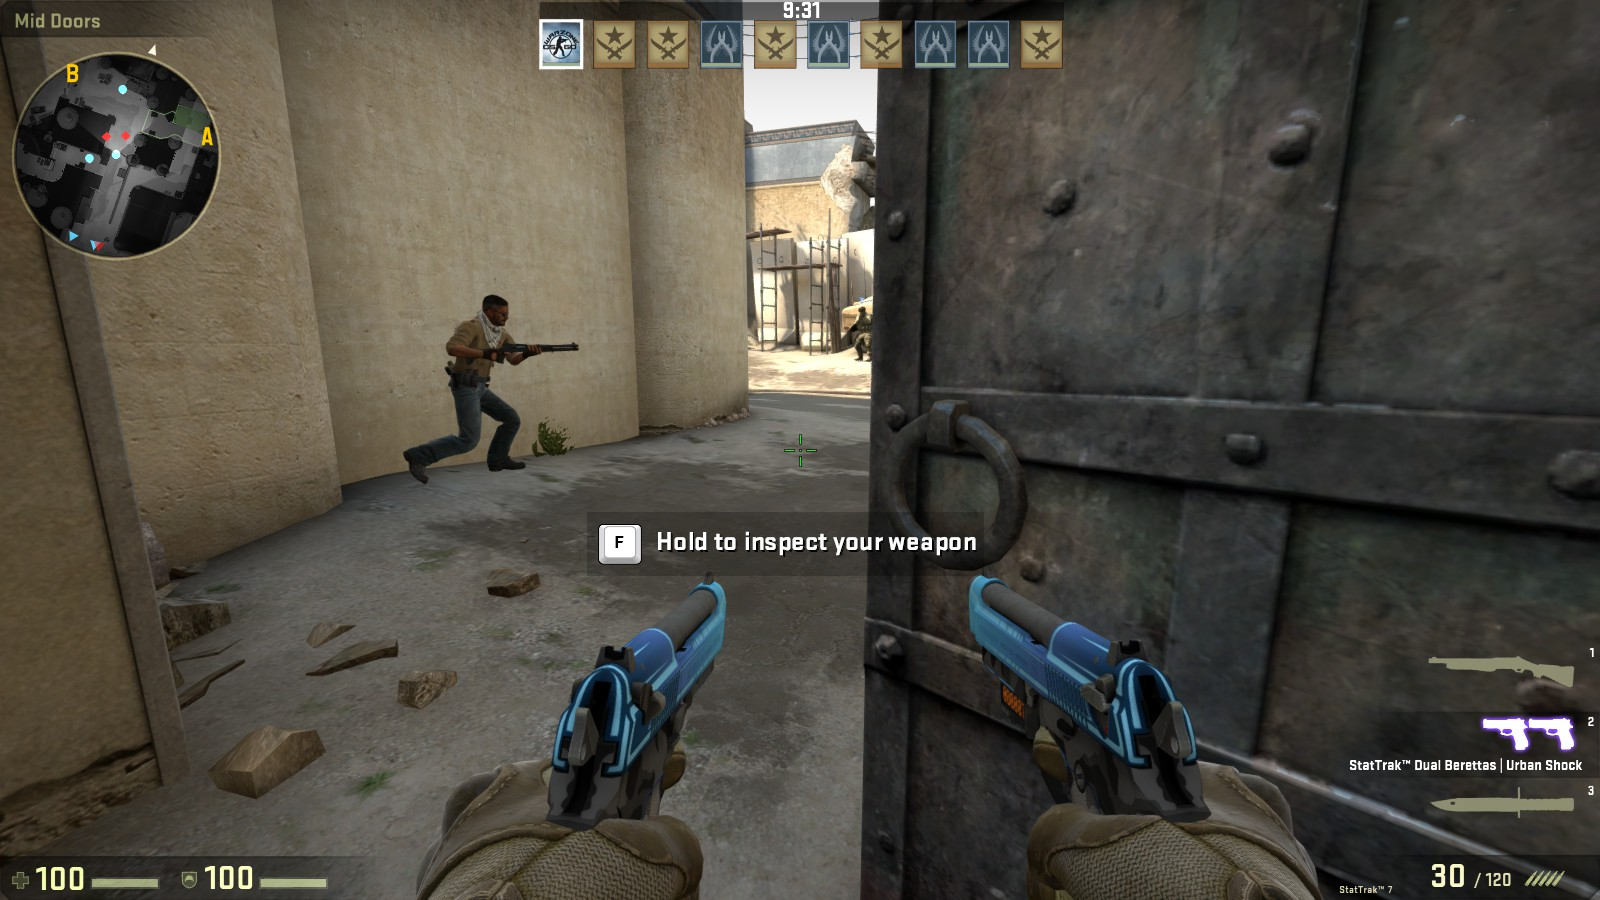t: (442, 288, 530, 475)
th: (475, 289, 514, 337)
